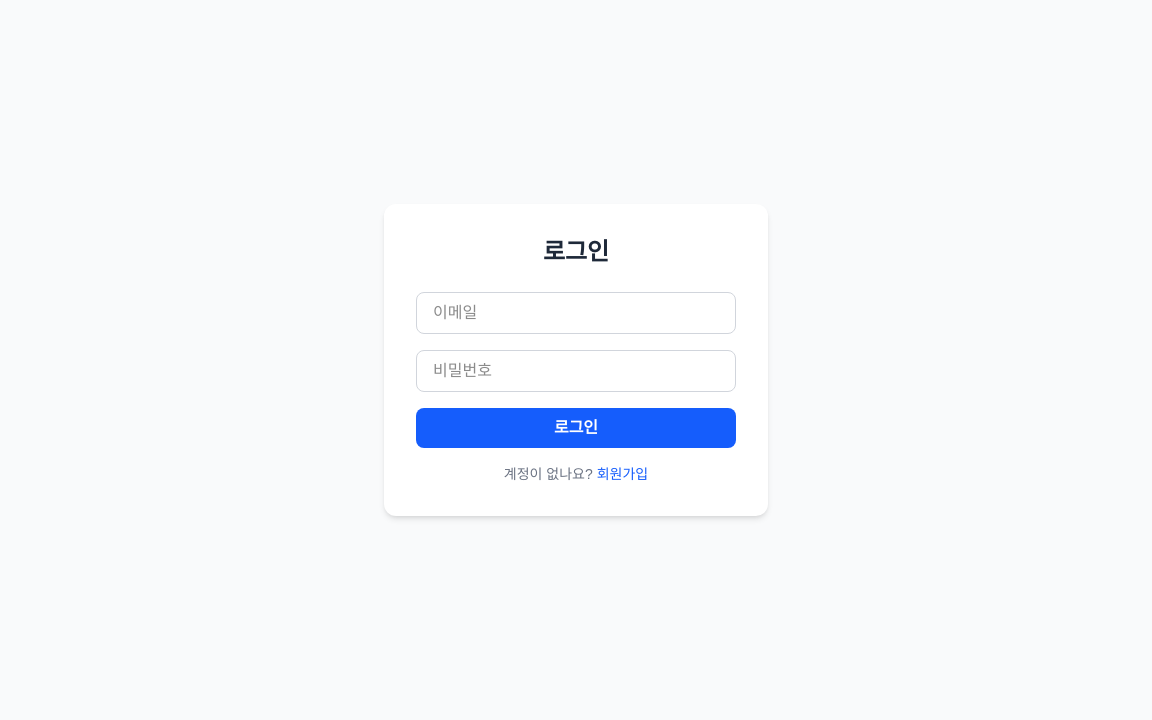
Scenario: LoginPage › 잠금 모달 확인 버튼 클릭 시 모달이 닫힌다
Step 1. Type "test@example.com" into the field with placeholder "이메일" → {"x": 576, "y": 313}, box x1=416 y1=292 x2=736 y2=334
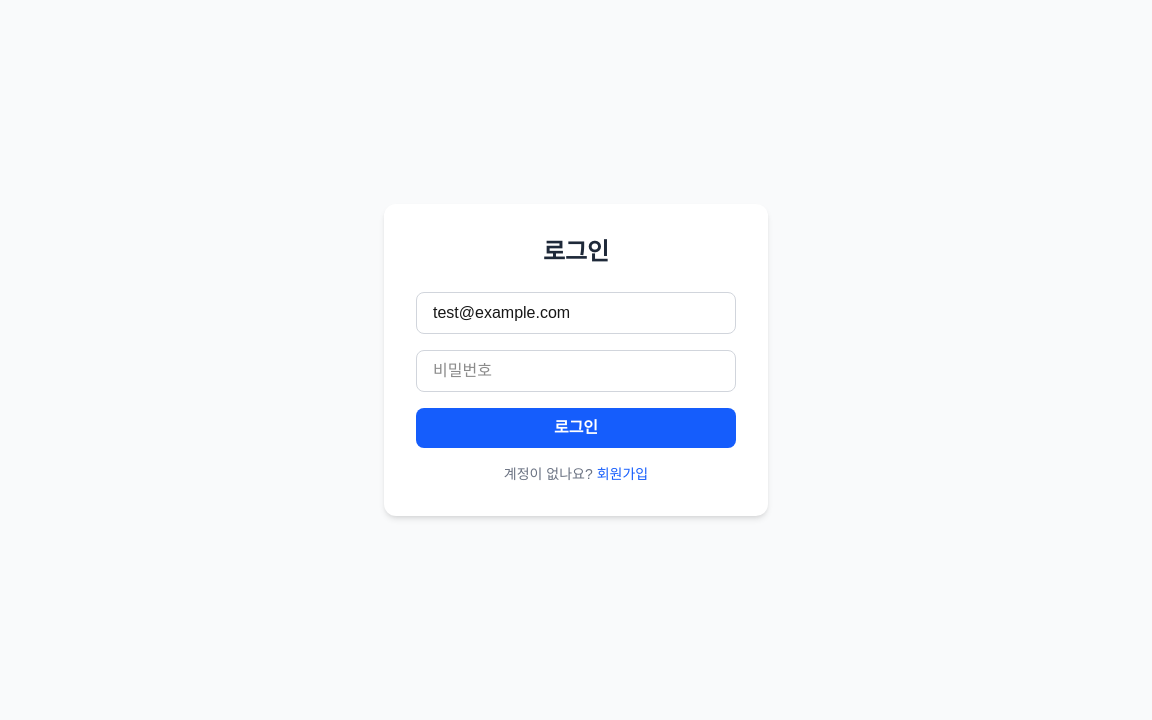
Step 2. Type "wrong" into the password field with placeholder "비밀번호" → {"x": 576, "y": 371}, box x1=416 y1=350 x2=736 y2=392
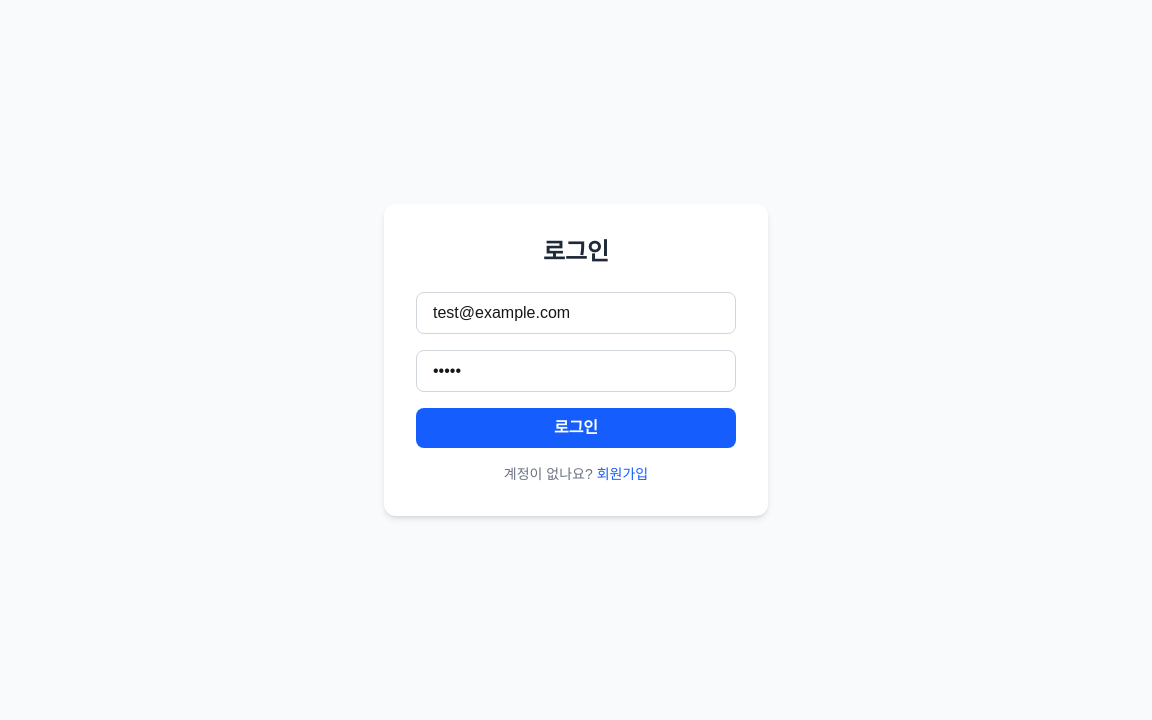
Step 3. Click the button "로그인" → {"x": 576, "y": 428}, box x1=416 y1=408 x2=736 y2=448
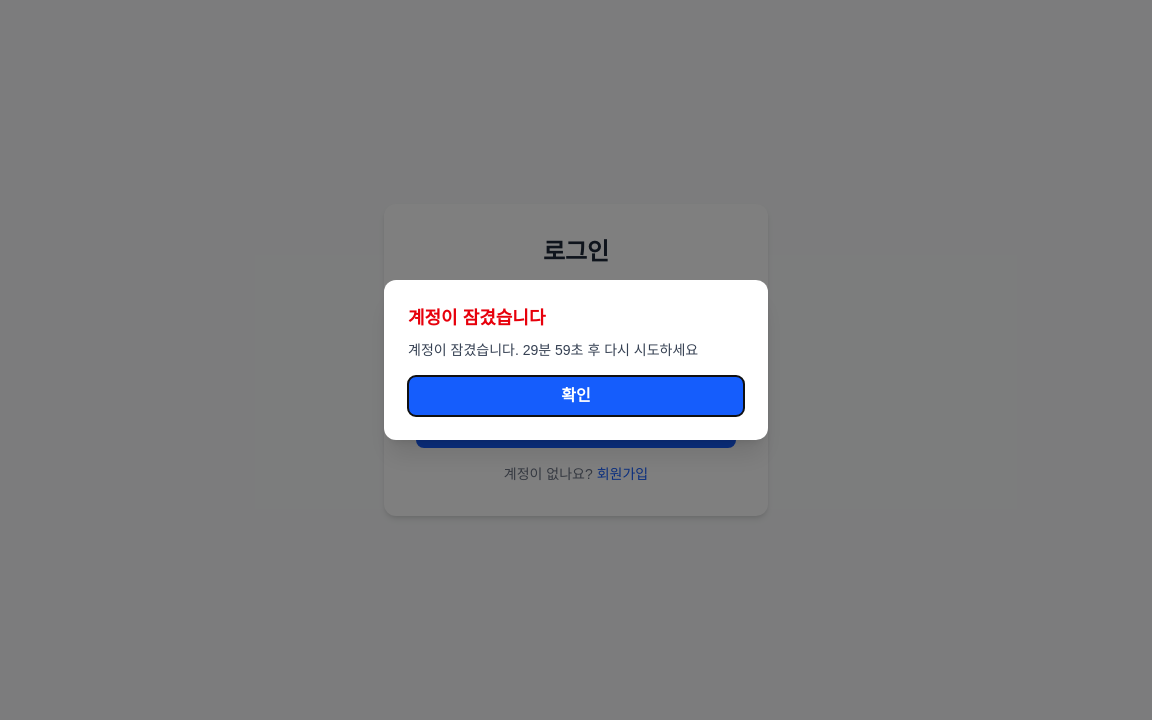
Expected: the heading "계정이 잠겼습니다" is shown, x1=408 y1=308 x2=546 y2=328
Step 4. Click the button "확인" → {"x": 576, "y": 396}, box x1=408 y1=376 x2=744 y2=416
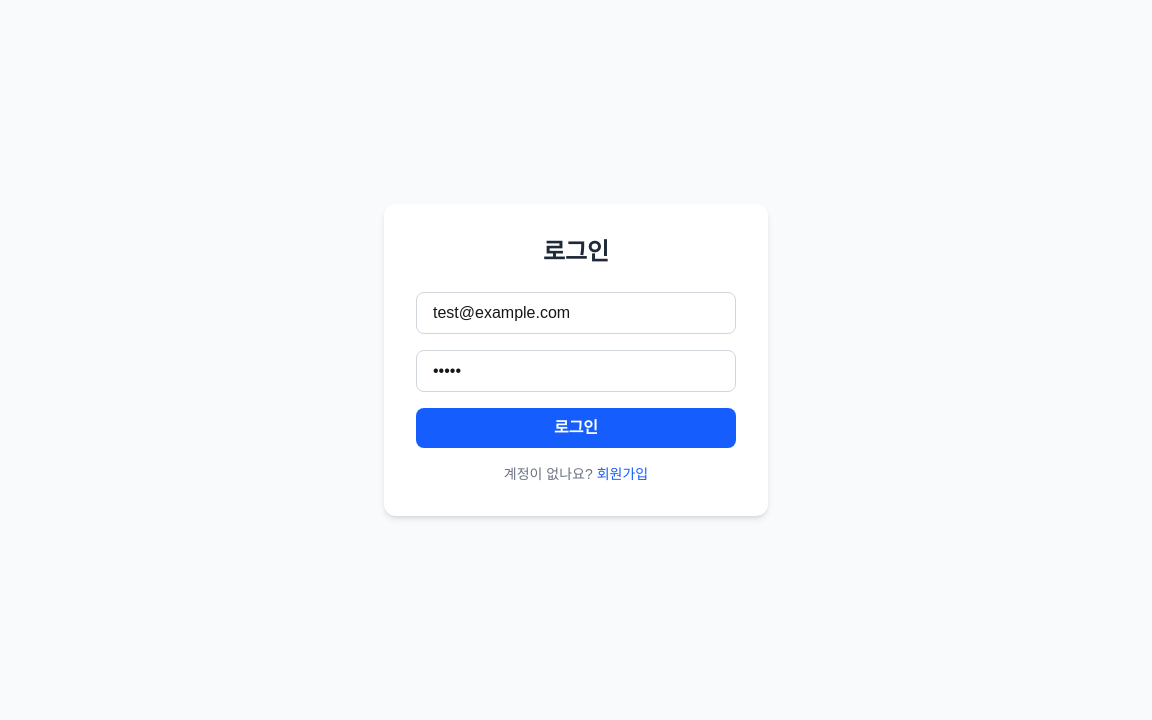
Expected: the heading "계정이 잠겼습니다" is gone
